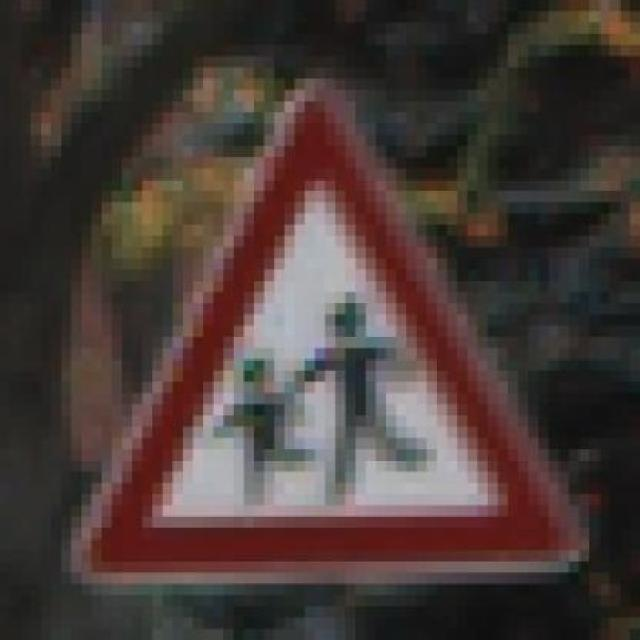Beware of children: (41, 68, 599, 595)
